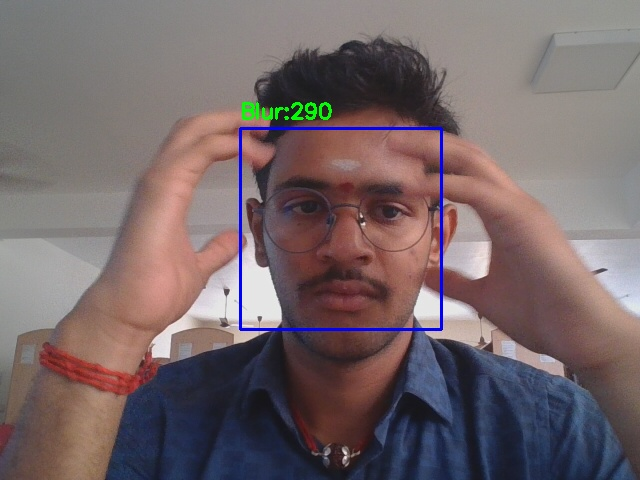real: (240, 128, 441, 329)
